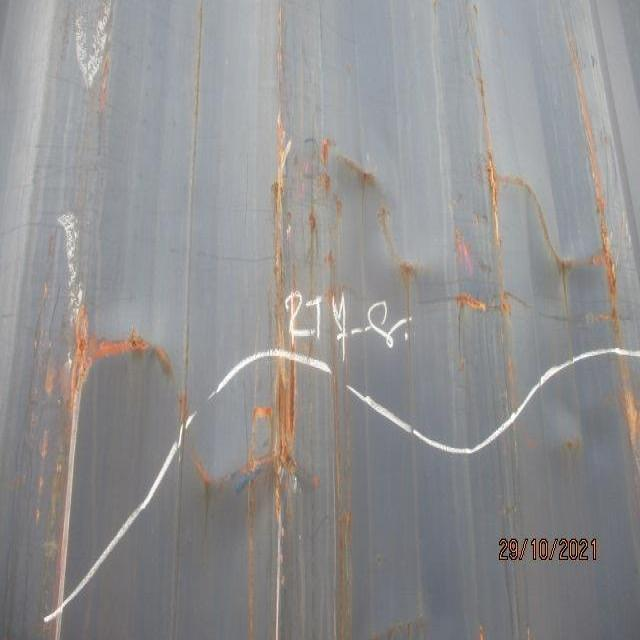Dent: (58, 143, 639, 519)
